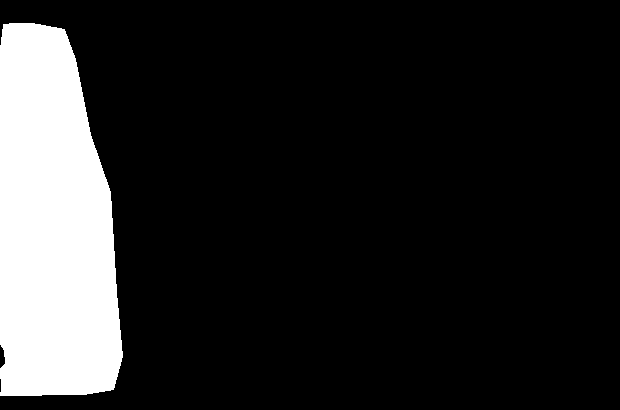type5: (1, 19, 127, 400)
